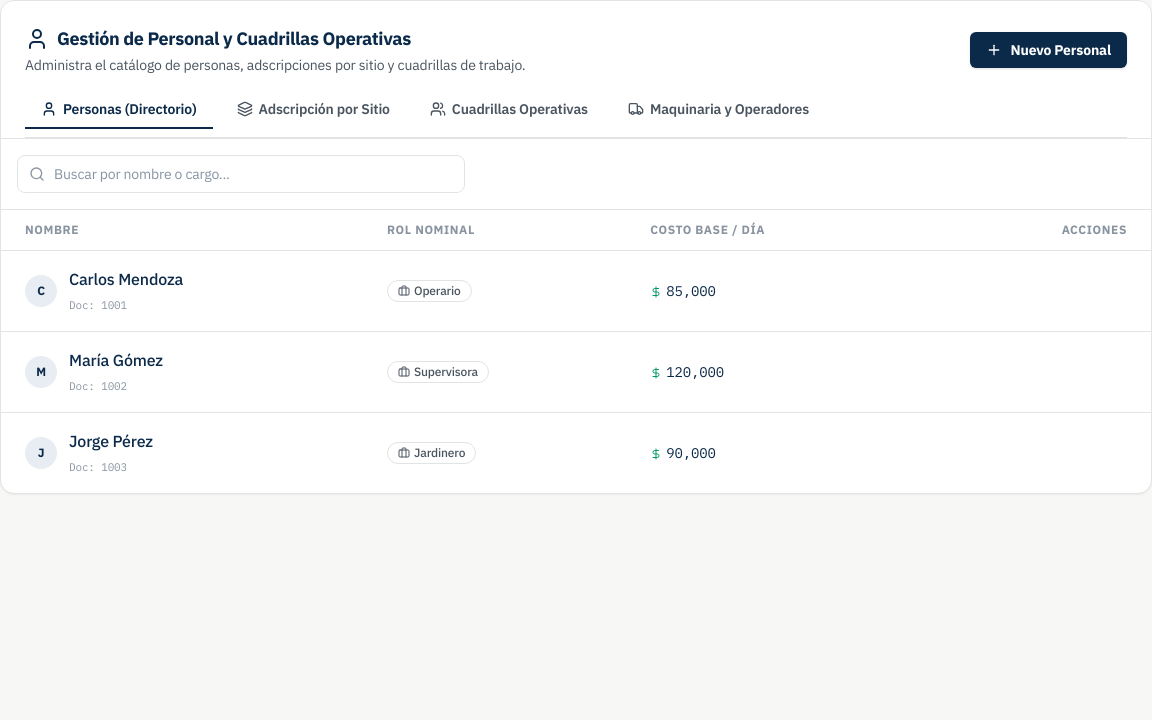
Test: CUADRILLAS-PERSONAL-FASE-2.4 — Crew Membership & Staffing UX (TC-CRW-01..12) › TC-CRW-06: Cuadrilla inactiva -> renderiza badge visual Inactiva
Step 1. Click the button "Cuadrillas Operativas" → (509, 110), box [414, 91, 604, 129]
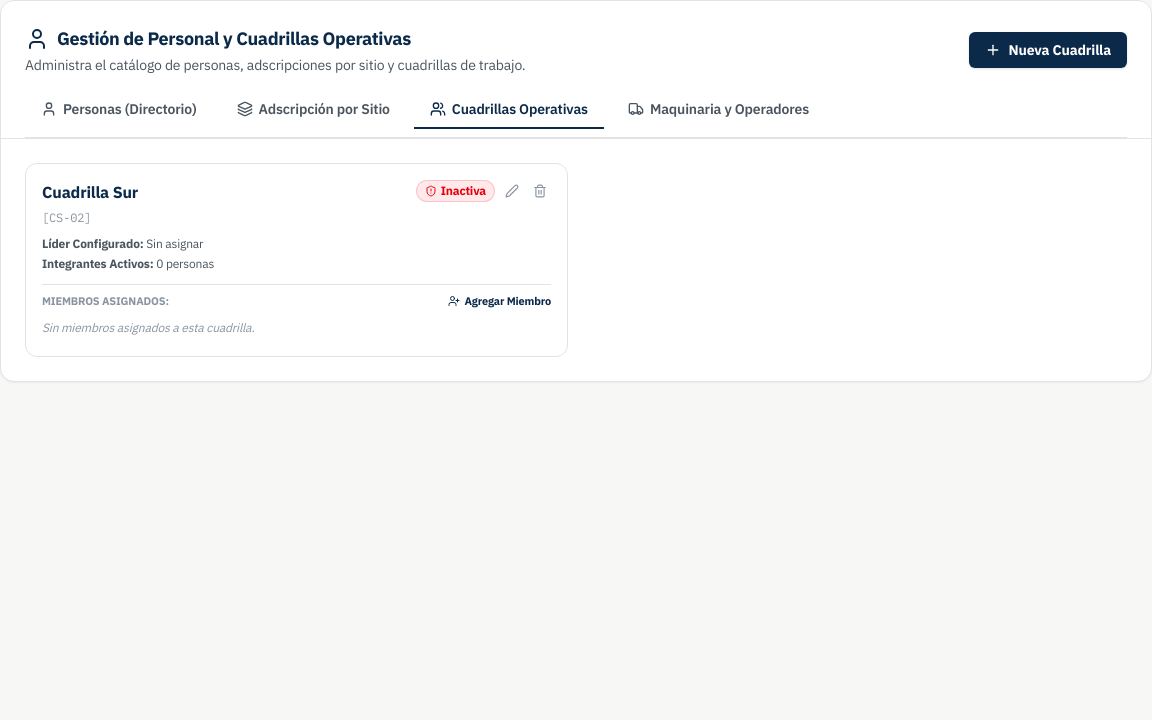
Expected: the text "Inactiva" is shown, [416, 180, 495, 202]
Expected: the heading "Cuadrilla Sur" is shown, [42, 180, 138, 204]
